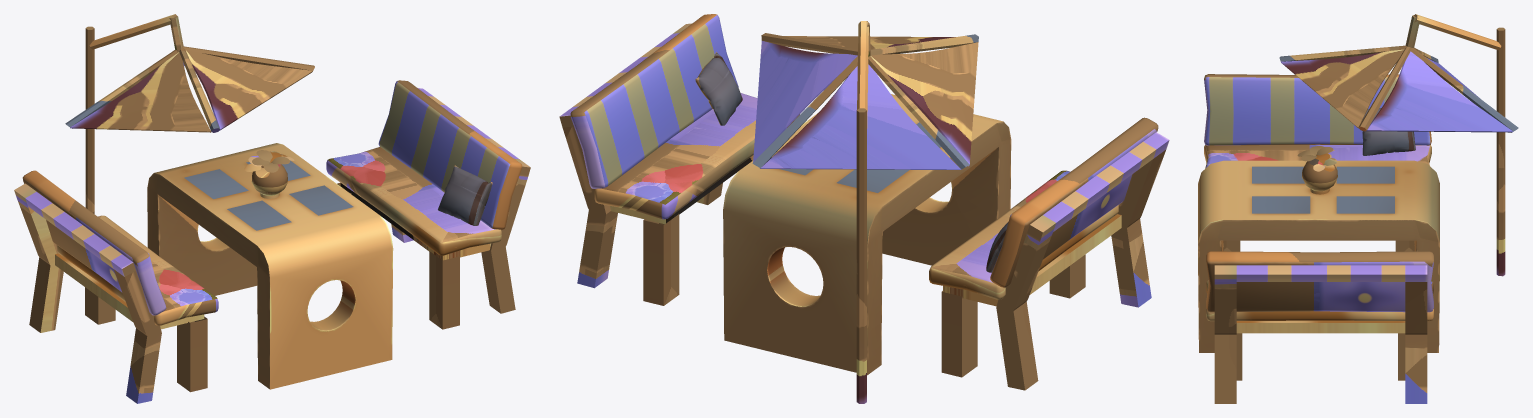
The model's file is table_7.fbx.
The picture shows the model from 3 angles, left to right: view 1: azimuth 30°, elevation 25°; view 2: azimuth 150°, elevation 25°; view 3: azimuth 270°, elevation 25°; orthographic projection. The views are drawn at different scales.
Parts seen in each view (by area): view 1: Cube.013, Cube.042, Cube.019, Cube.041, Cylinder.039, Cylinder.038, Cube.018, Cube.016, Cube.044, Cube.015, Cylinder.036, Cube.038 (+10 smaller); view 2: Cube.013, Cube.042, Cube.019, Cylinder.040, Cube.041, Cylinder.039, Cube.018, Cylinder.037, Cylinder.036, Cube.044, Cube.016, Cube.015 (+8 smaller); view 3: Cube.013, Cube.018, Cube.044, Cube.042, Cylinder.037, Cylinder.038, Cube.016, Cylinder.036, Cylinder.032, Cube.036, Cube.041, Pillow2_LP1.001 (+9 smaller).
Part boxes in pixels (x1,y1,x2,y2): Cube.013: (147, 143, 393, 389); Cube.042: (378, 80, 522, 229); Cube.019: (14, 183, 161, 403); Cube.041: (326, 147, 501, 255); Cylinder.039: (70, 52, 211, 132); Cylinder.038: (186, 50, 312, 130); Cube.018: (22, 170, 166, 315); Cube.016: (57, 215, 218, 325); Cube.044: (391, 88, 530, 313); Cube.015: (85, 287, 207, 392); Cylinder.036: (65, 46, 314, 132); Cube.038: (337, 182, 459, 329); Cube.013: (723, 94, 1011, 375); Cube.042: (570, 14, 738, 188); Cube.019: (996, 132, 1169, 390); Cylinder.040: (760, 64, 960, 169); Cube.041: (594, 93, 799, 219); Cylinder.039: (870, 42, 978, 166); Cube.018: (990, 117, 1158, 287); Cylinder.037: (753, 41, 857, 162); Cylinder.036: (752, 33, 978, 169); Cube.044: (559, 23, 722, 288); Cube.016: (929, 170, 1118, 299); Cube.015: (941, 254, 1085, 377); Cube.013: (1198, 160, 1439, 352); Cube.018: (1204, 74, 1431, 145); Cube.044: (1214, 265, 1427, 403); Cube.042: (1206, 251, 1433, 312); Cylinder.037: (1366, 51, 1513, 132); Cylinder.038: (1281, 49, 1404, 128); Cube.016: (1204, 144, 1431, 168); Cylinder.036: (1279, 45, 1518, 131); Cylinder.032: (1496, 27, 1505, 276); Cube.036: (1236, 320, 1405, 333); Cube.041: (1206, 280, 1433, 321); Pillow2_LP1.001: (1362, 108, 1415, 155).
Bounding box in the file's own units: 7.94 × 5.37 × 5.45.
